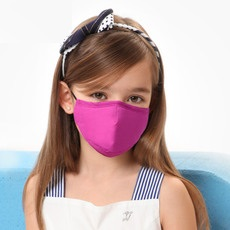face_mask: (72, 54, 154, 158)
